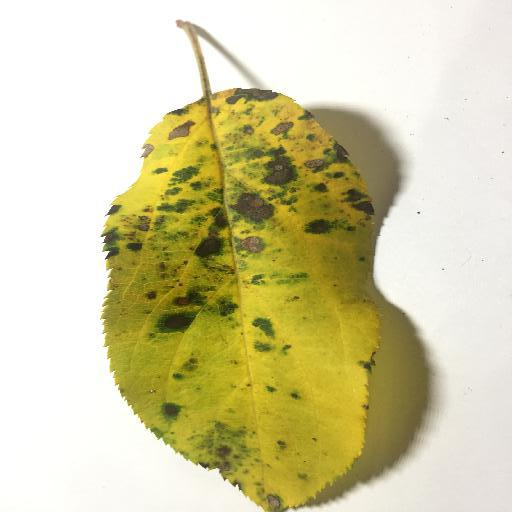Brown_Spot: (206, 445, 239, 487), (231, 191, 266, 221), (126, 213, 150, 248), (169, 296, 193, 328), (262, 156, 283, 188), (164, 122, 195, 143), (240, 229, 265, 255), (300, 157, 331, 174), (266, 489, 286, 512), (268, 118, 290, 134), (142, 140, 156, 162)
